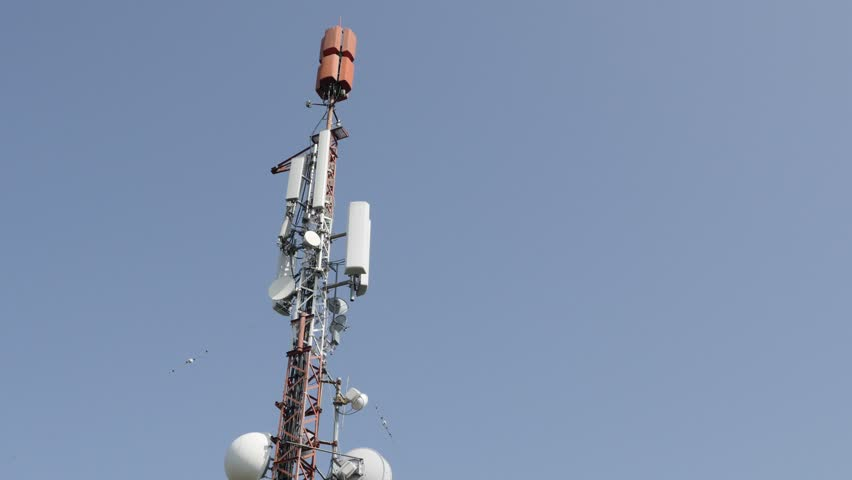a: (350, 200, 369, 271), (310, 130, 327, 207), (290, 157, 301, 200)
b: (222, 428, 271, 476), (270, 276, 295, 301), (304, 230, 319, 247)
